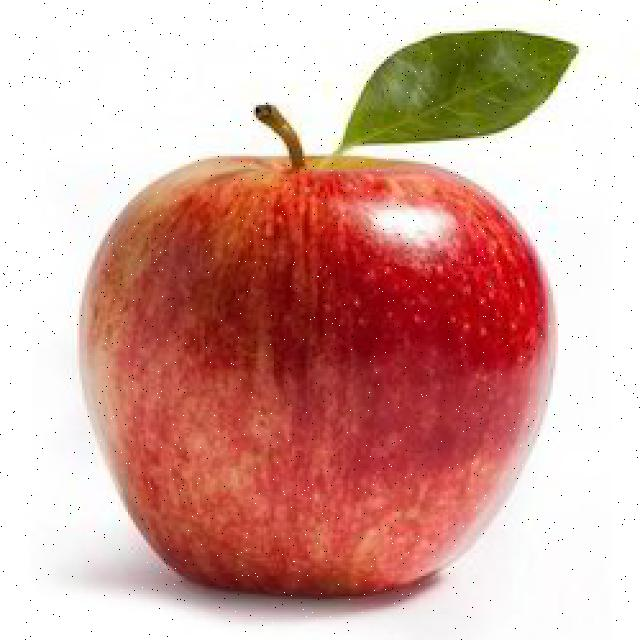Apel: (80, 103, 558, 596)
